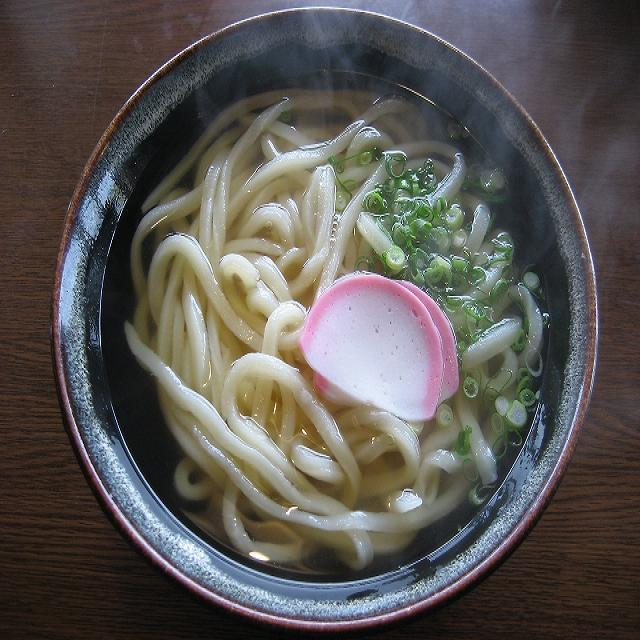面条主食: (24, 5, 610, 640)
